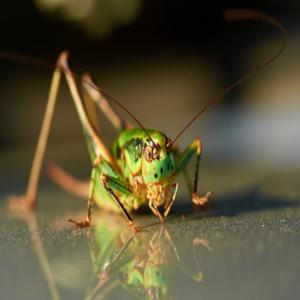locust: (40, 40, 239, 255)
